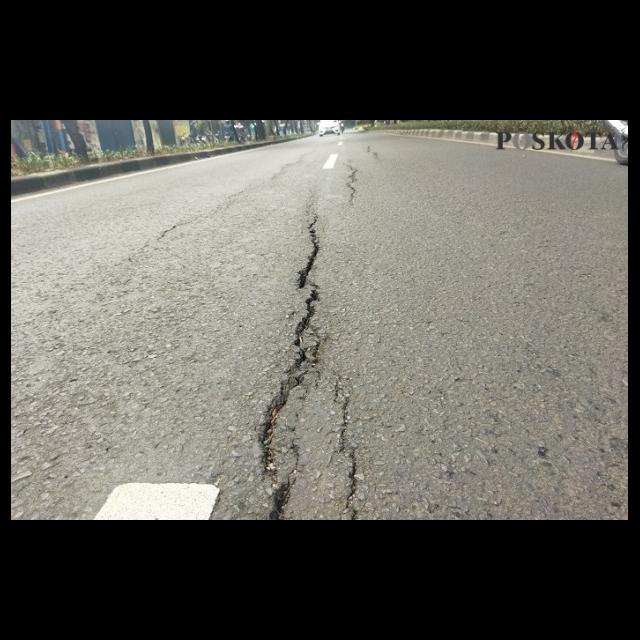retak_memanjang: (234, 181, 383, 520), (331, 145, 379, 217)
